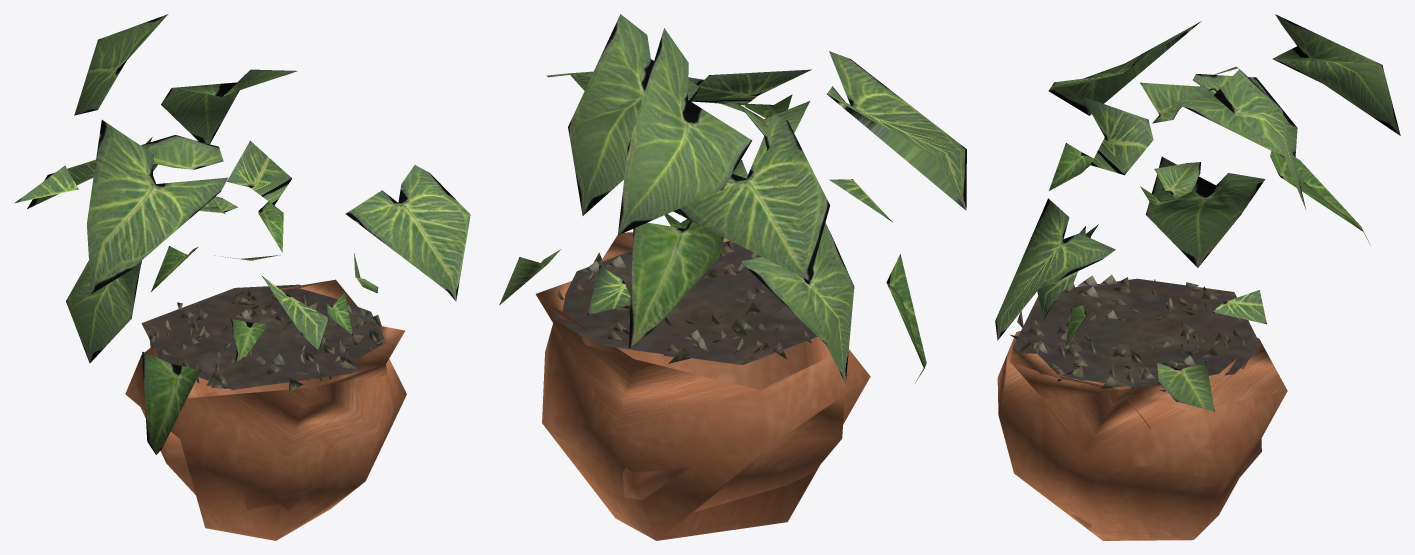
File: potted_plant_02.glb
3 views of the same model, side by side, from view 1: azimuth 30°, elevation 25°; view 2: azimuth 150°, elevation 25°; view 3: azimuth 270°, elevation 25° (orthographic). The views are drawn at different scales.
Parts seen in each view (by area): view 1: potted_plant_02_leaves, potted_plant_02_pot, potted_plant_02_dirt; view 2: potted_plant_02_leaves, potted_plant_02_pot, potted_plant_02_dirt; view 3: potted_plant_02_leaves, potted_plant_02_pot, potted_plant_02_dirt.
Boxes of the visible parts, bbox=[...] form: potted_plant_02_leaves: bbox=[14, 14, 470, 454]; potted_plant_02_pot: bbox=[125, 279, 406, 540]; potted_plant_02_dirt: bbox=[141, 284, 385, 392]; potted_plant_02_leaves: bbox=[499, 14, 966, 383]; potted_plant_02_pot: bbox=[535, 232, 870, 540]; potted_plant_02_dirt: bbox=[553, 240, 817, 365]; potted_plant_02_leaves: bbox=[995, 14, 1400, 411]; potted_plant_02_pot: bbox=[997, 331, 1287, 540]; potted_plant_02_dirt: bbox=[1010, 274, 1261, 391].
Bounding box in the file's own units: 0.7002 × 0.8395 × 0.636.
2 materials, 2 textured.
